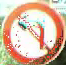Don't turn left: (5, 2, 64, 64)
